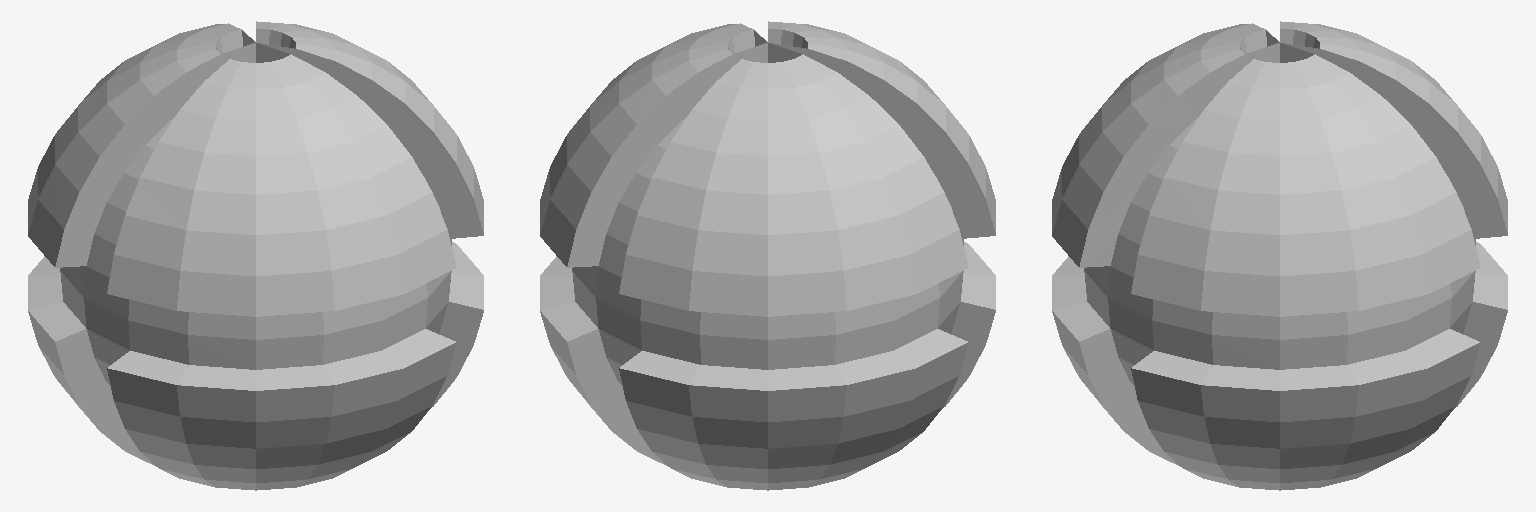
The model's file is bomb.obj.
3 views of the same model, side by side, from view 1: azimuth 30°, elevation 25°; view 2: azimuth 150°, elevation 25°; view 3: azimuth 270°, elevation 25° (orthographic).
Parts seen in each view (by area): view 1: pSphere1; view 2: pSphere1; view 3: pSphere1.
Part boxes in pixels (left/top/right/bottom): pSphere1: left=28, top=21, right=483, bottom=490; pSphere1: left=540, top=21, right=995, bottom=490; pSphere1: left=1052, top=21, right=1507, bottom=490.
Size of the model in its own units: 1.11 by 1.12 by 1.09.